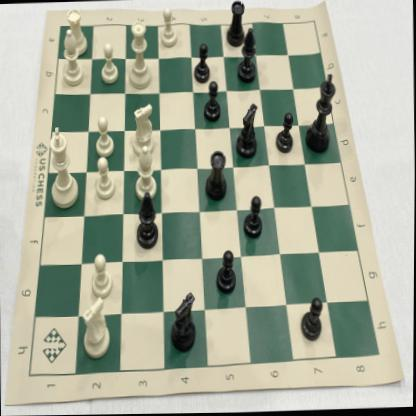black-bishop: (130, 188, 160, 252), (235, 24, 259, 89)
black-king: (303, 71, 337, 157)
black-knight: (168, 288, 198, 356), (234, 101, 259, 164)
black-pawn: (298, 292, 325, 345), (213, 246, 238, 296), (242, 192, 264, 243), (200, 80, 225, 124), (273, 109, 296, 156), (191, 39, 213, 86)
black-rook: (203, 144, 230, 204), (222, 0, 248, 51)
white-bishop: (56, 27, 87, 88), (133, 144, 159, 203)
white-king: (47, 123, 81, 210)
white-knight: (81, 293, 113, 363), (129, 100, 155, 158)
white-pawn: (88, 252, 115, 301), (93, 154, 116, 201), (156, 3, 178, 51), (98, 41, 121, 86), (94, 115, 116, 158)
white-queen: (127, 16, 154, 93)
white-rook: (64, 7, 89, 59)
